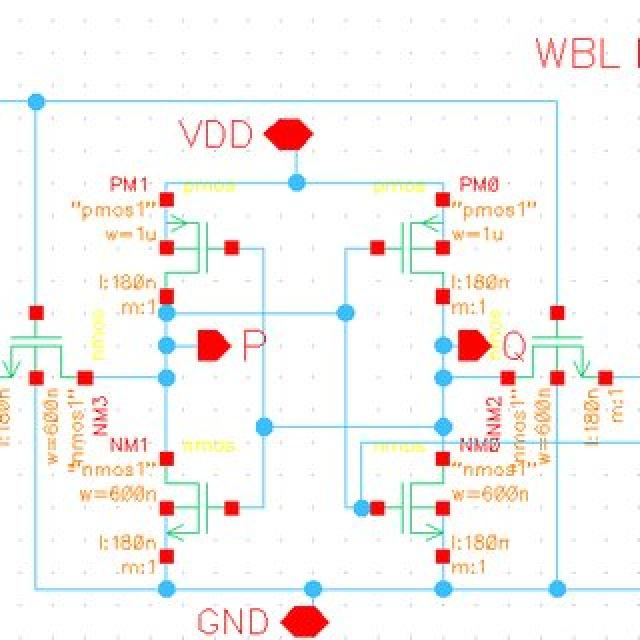nmos: (488, 302, 620, 391), (366, 441, 456, 565), (156, 439, 246, 562), (0, 306, 106, 390)
pmos: (155, 182, 246, 305), (369, 182, 454, 306), (372, 181, 451, 304)
